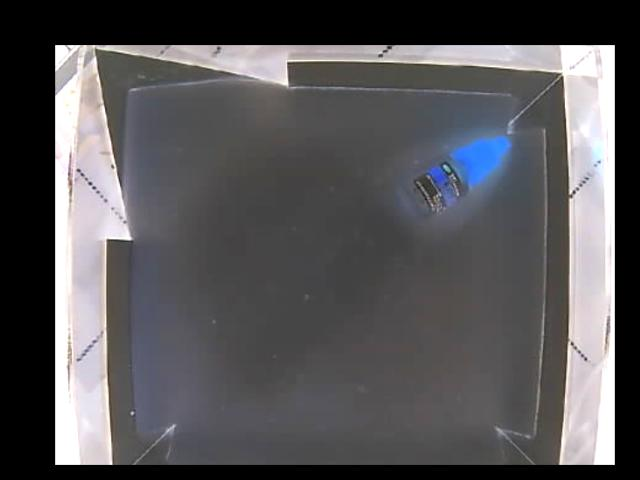Bottle: (401, 134, 512, 222)
